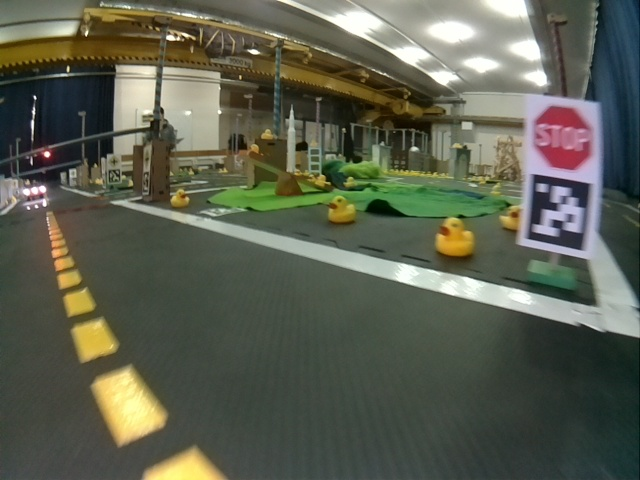Duckie: (436, 217, 473, 255), (329, 196, 354, 221), (501, 206, 517, 228), (172, 190, 189, 206), (317, 175, 327, 185), (262, 130, 271, 137)
Duckiebot: (22, 186, 45, 200)
Intersection sign: (144, 147, 153, 170), (108, 155, 120, 169)
QR code: (526, 175, 592, 253), (198, 206, 245, 216), (142, 172, 151, 194), (107, 170, 120, 183)
Stop sign: (527, 100, 599, 171)
Traffic light: (43, 149, 50, 156)
